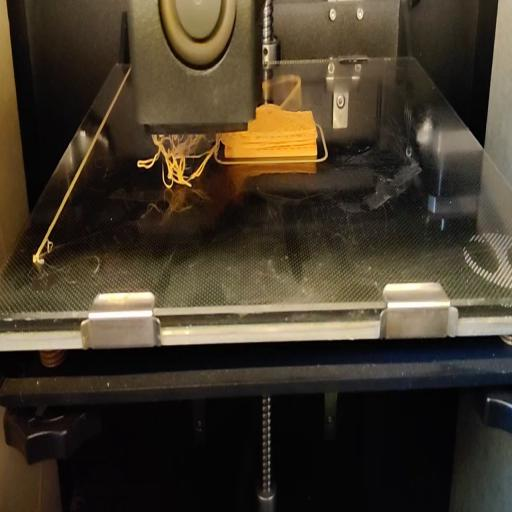spaghetti: (136, 134, 210, 190)
